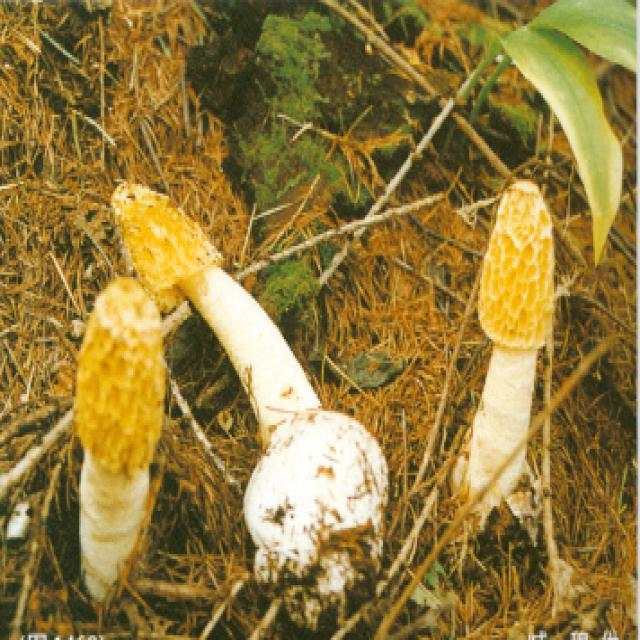Dictyophora indusiate: (112, 179, 387, 617), (73, 278, 164, 602), (475, 180, 557, 524)
